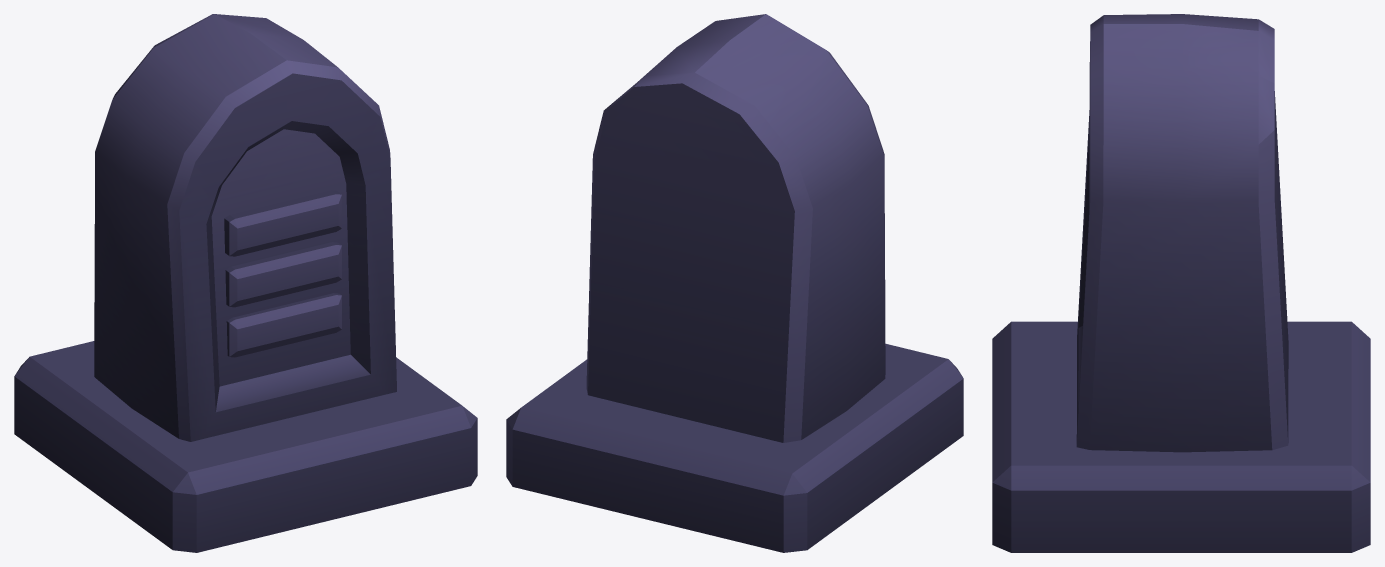
Rendered from tomb_2.glb.
3 renders of one model, left to right at view 1: azimuth 30°, elevation 25°; view 2: azimuth 150°, elevation 25°; view 3: azimuth 270°, elevation 25°, orthographic. The views are drawn at different scales.
Visible parts, largest first — view 1: tomb_2; view 2: tomb_2; view 3: tomb_2.
Part boxes in pixels (x1,y1,x2,y2): tomb_2: (14, 14, 477, 552); tomb_2: (506, 14, 963, 552); tomb_2: (992, 14, 1370, 552).
Size of the model in its own units: 2 by 2.63 by 2.
1 material, 1 textured.
